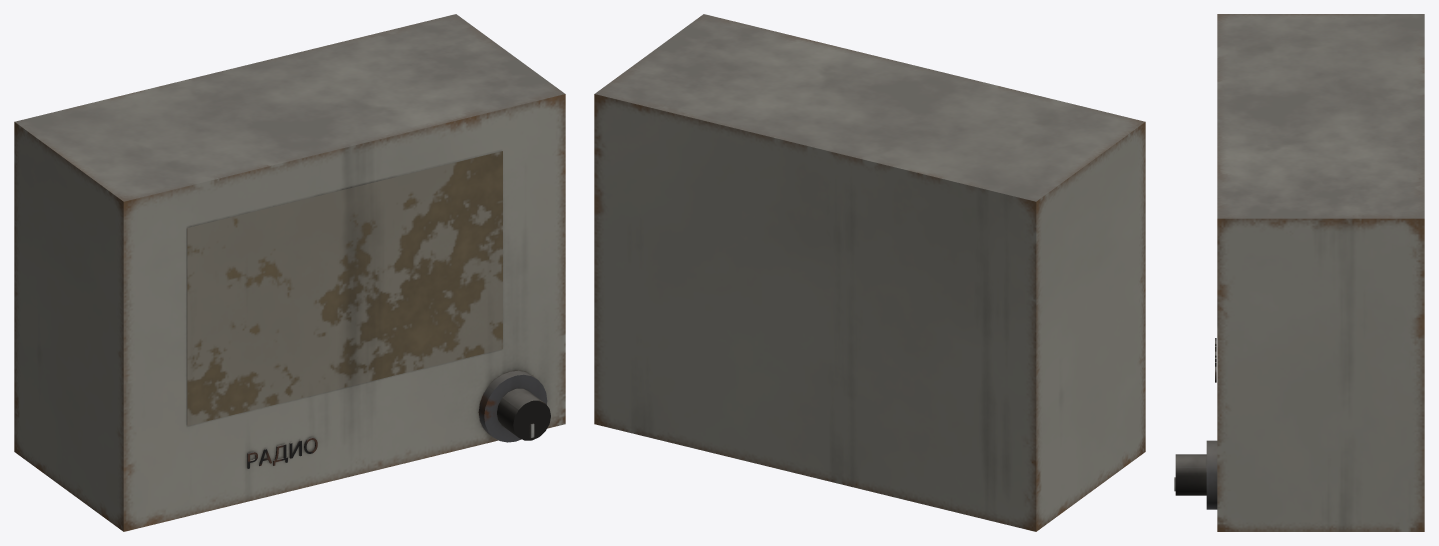
The model's file is SM_Radio_WallSpeaker.fbx.
The picture shows the model from 3 angles, left to right: view 1: azimuth 30°, elevation 25°; view 2: azimuth 150°, elevation 25°; view 3: azimuth 270°, elevation 25°; orthographic projection. The views are drawn at different scales.
Parts seen in each view (by area): view 1: SM_Radio_WallSpeaker; view 2: SM_Radio_WallSpeaker; view 3: SM_Radio_WallSpeaker.
Part boxes in pixels (x1=…): SM_Radio_WallSpeaker: x1=14, y1=14, x2=565, y2=531; SM_Radio_WallSpeaker: x1=594, y1=14, x2=1145, y2=531; SM_Radio_WallSpeaker: x1=1174, y1=14, x2=1424, y2=531.
Size of the model in its own units: 0.28 by 0.2 by 0.1448.
1 material, 1 textured.
